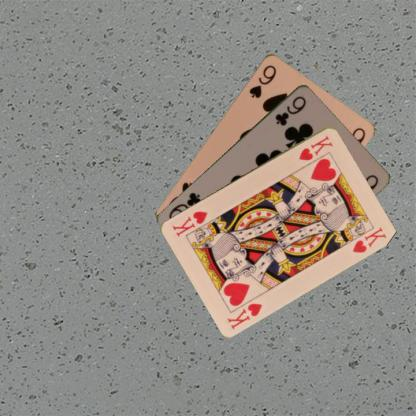9c: (272, 93, 308, 127)
9s: (246, 62, 278, 99)
Kh: (224, 300, 264, 330), (296, 132, 334, 162)
